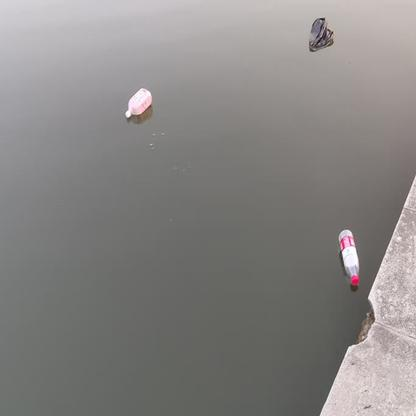plastic bag: (308, 17, 335, 51)
plastic bottle: (338, 229, 361, 287), (124, 87, 153, 116)
